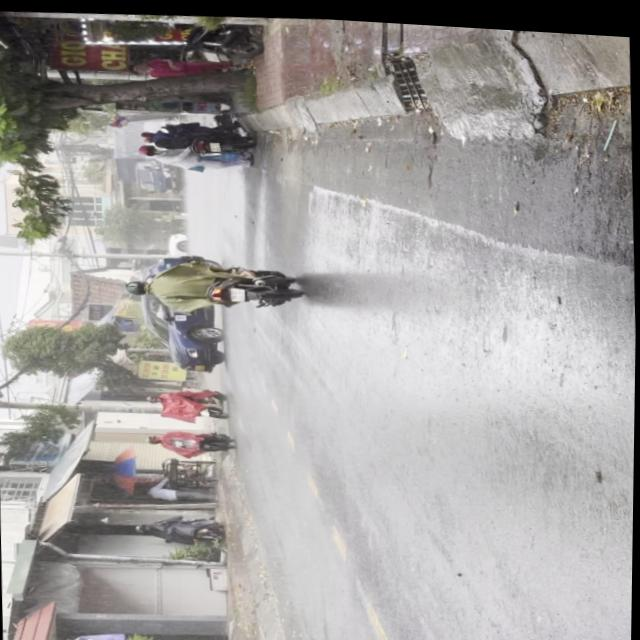helmet: (122, 279, 149, 296)
licenseplate: (121, 251, 306, 317)
nohelmet: (229, 286, 243, 299)
